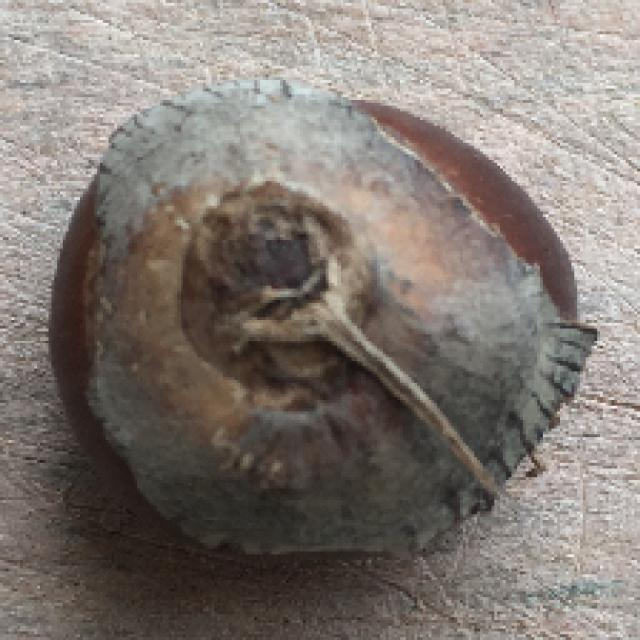damagedHazelnut: (61, 78, 590, 585)
